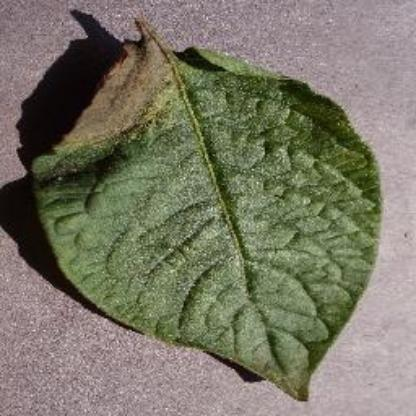Late-Blight: (28, 13, 380, 400)
